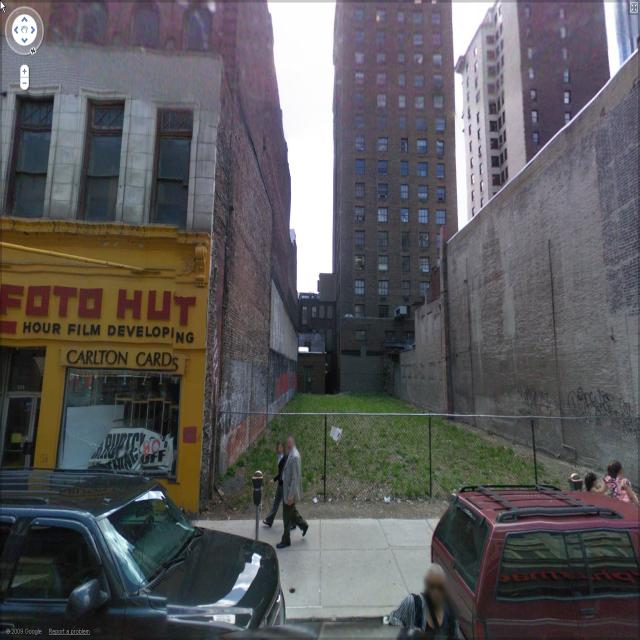b_1: (0, 12, 300, 407), (338, 2, 460, 322), (463, 1, 609, 220), (284, 278, 341, 371)
